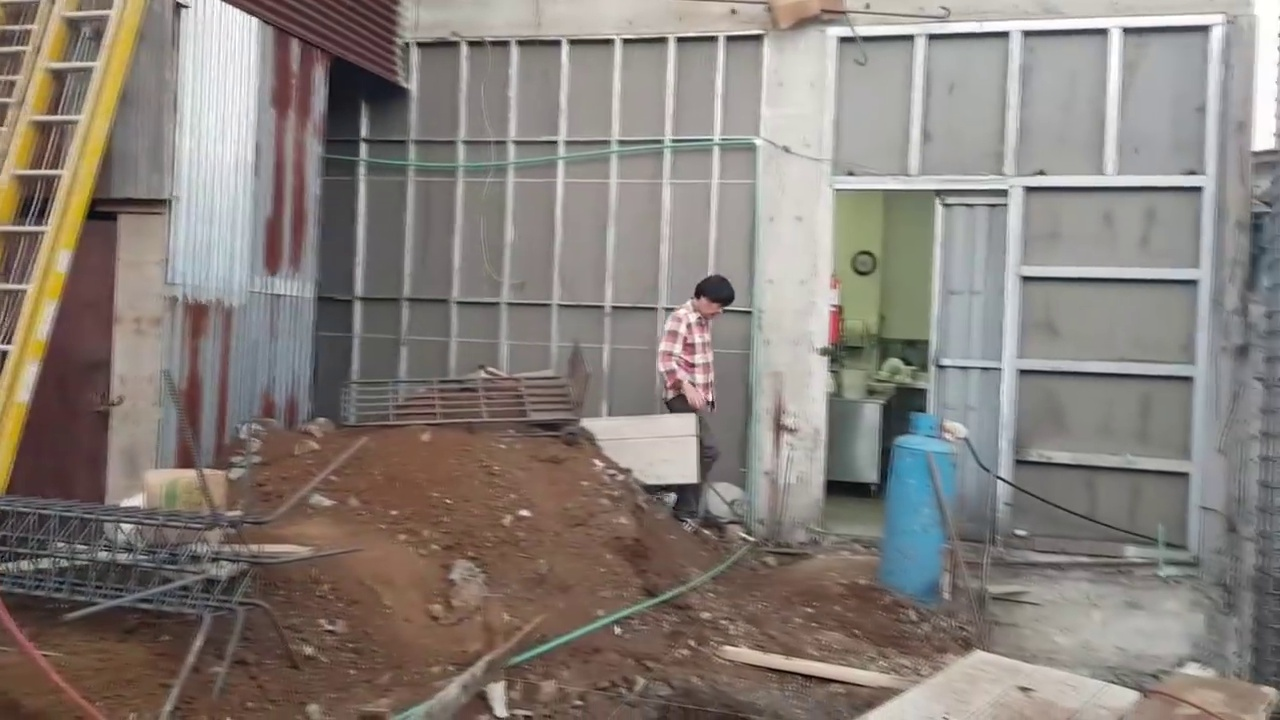helmet-off: (693, 278, 732, 321)
person: (663, 279, 745, 481)
